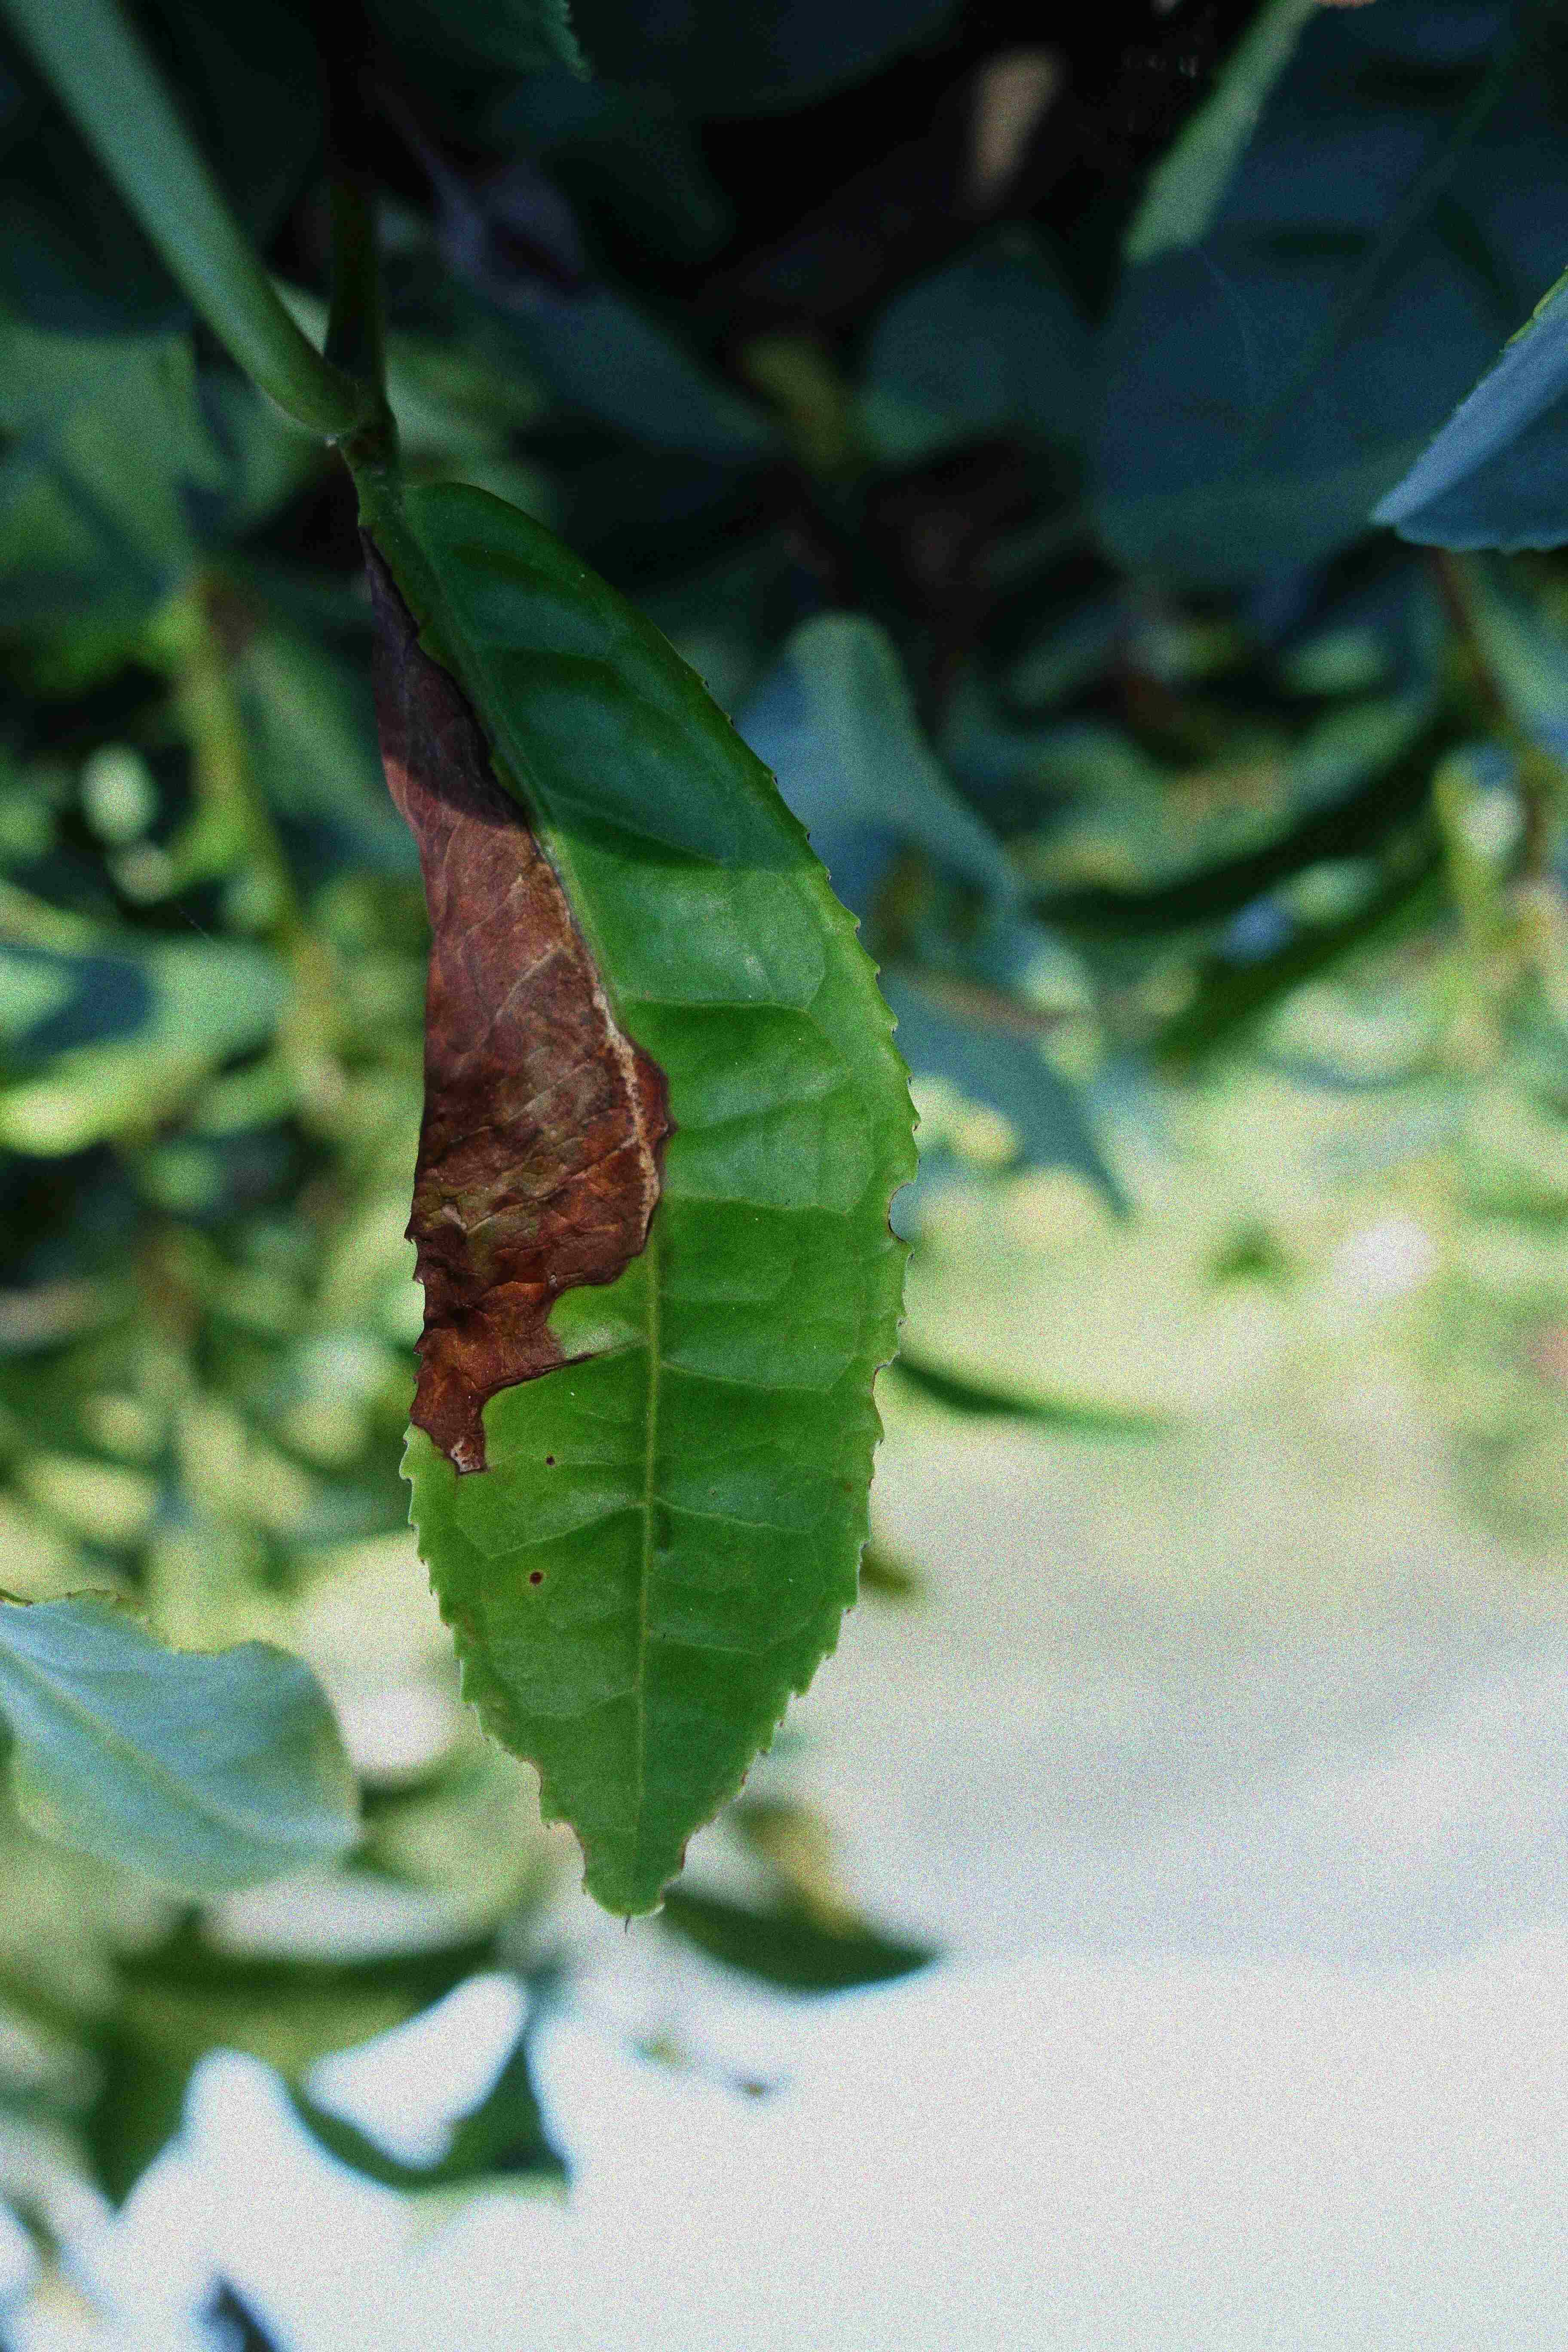tanju_high: (334, 486, 926, 1920)
